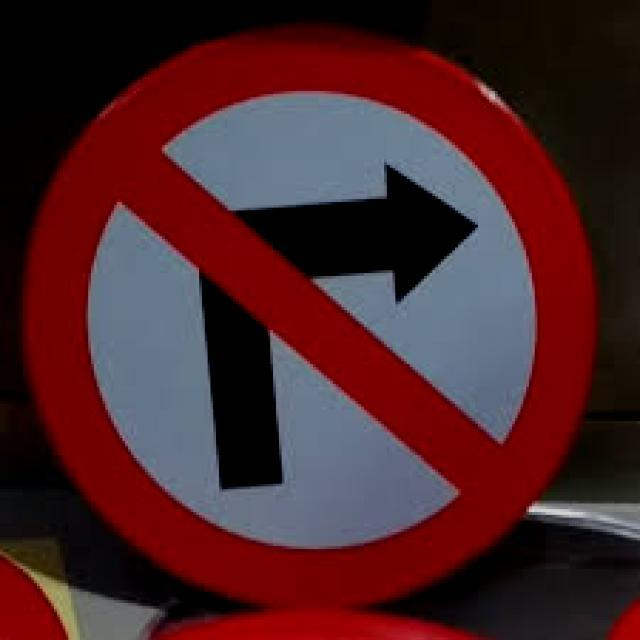Dilarang Belok Kanan: (21, 21, 599, 608)
